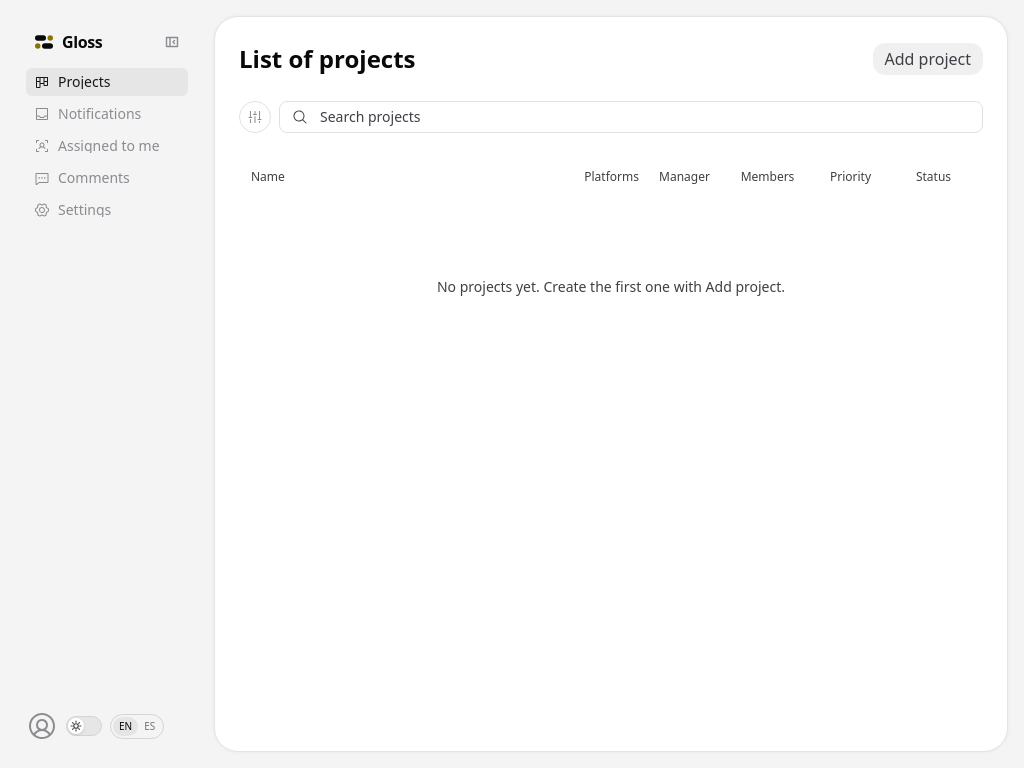
Test: Demo controls › starts empty, with the workspace owner and no demo when none is configured
The width and height of the screenshot is (1024, 768).
Expected: the heading "List of projects" is shown, [239, 41, 416, 77]
Click the button named "Open user menu" at point(42, 726), box [26, 710, 58, 742]
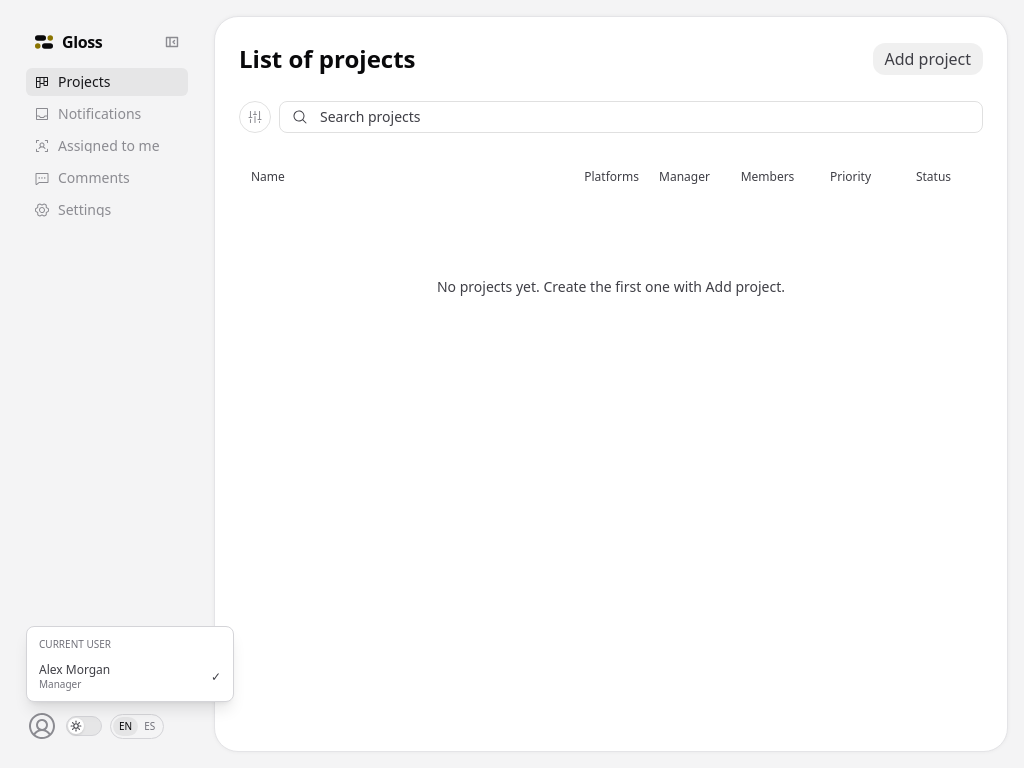
Expected: the number of menu items is 1, [31, 656, 229, 697]
Expected: the text "Alex Morgan" is shown, [39, 662, 110, 678]
